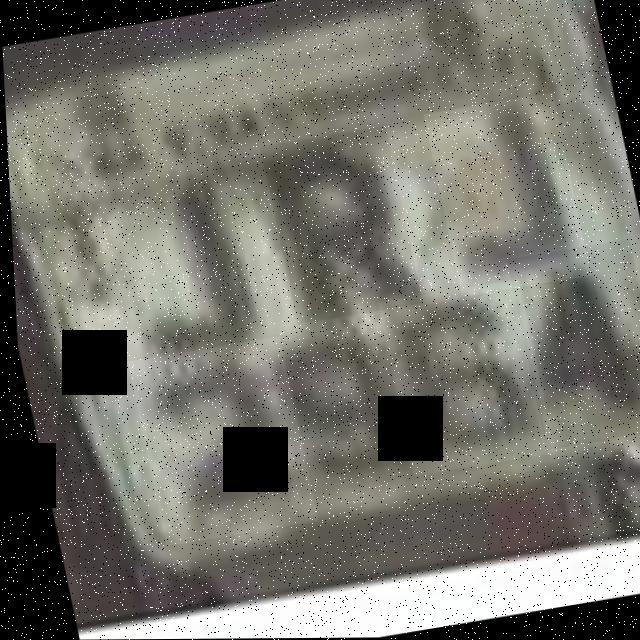2: (123, 336, 313, 546)
4: (503, 239, 640, 450)
6: (374, 280, 552, 477)
9: (245, 304, 425, 494)
J: (421, 94, 589, 298), (104, 169, 259, 370)
R: (258, 126, 420, 325)
